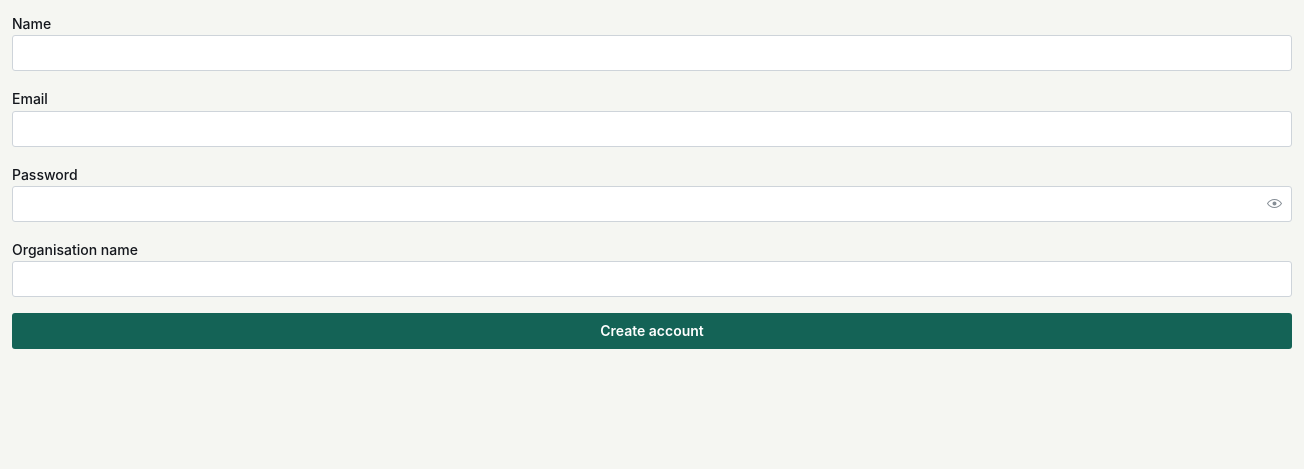
Test: SignUpForm › shows a generic banner when the server returns an unexpected 400
In the field labelled "Name": (652, 53) [12,35,1292,71], type "Priya Rao"
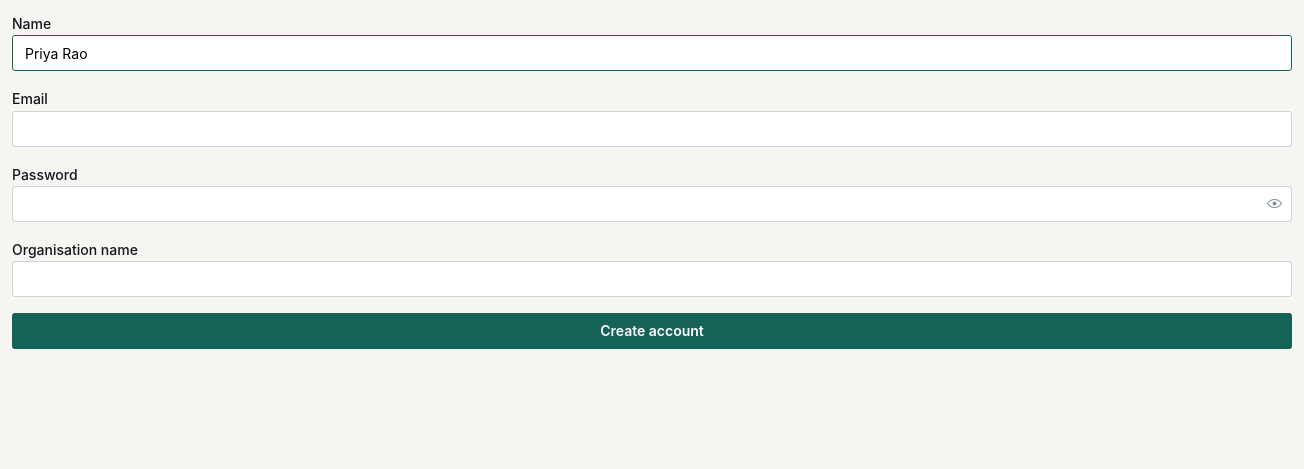
In the field labelled "Email": (652, 128) [12,110,1292,146], type "priya@acme.com"
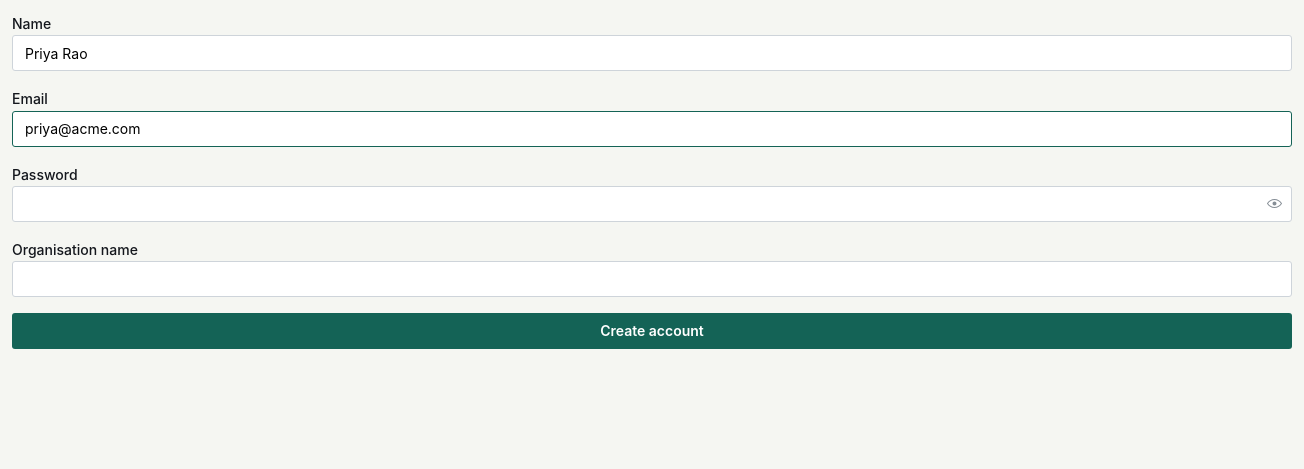
In the password field labelled "Password": (652, 204) [13,187,1291,221], type "s3cret-pass"
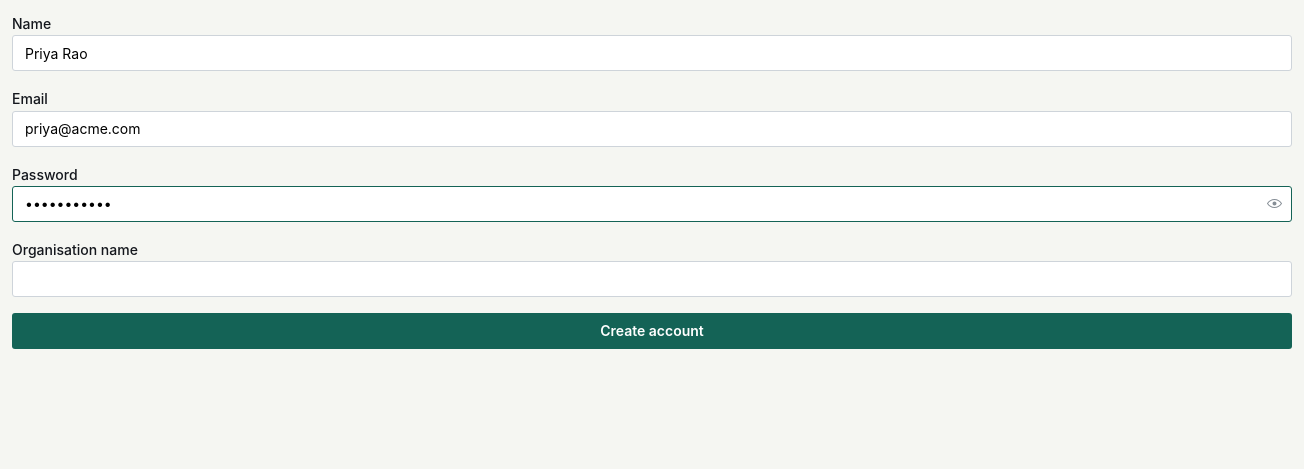
In the field labelled "Organisation name": (652, 279) [12,261,1292,297], type "ACME"
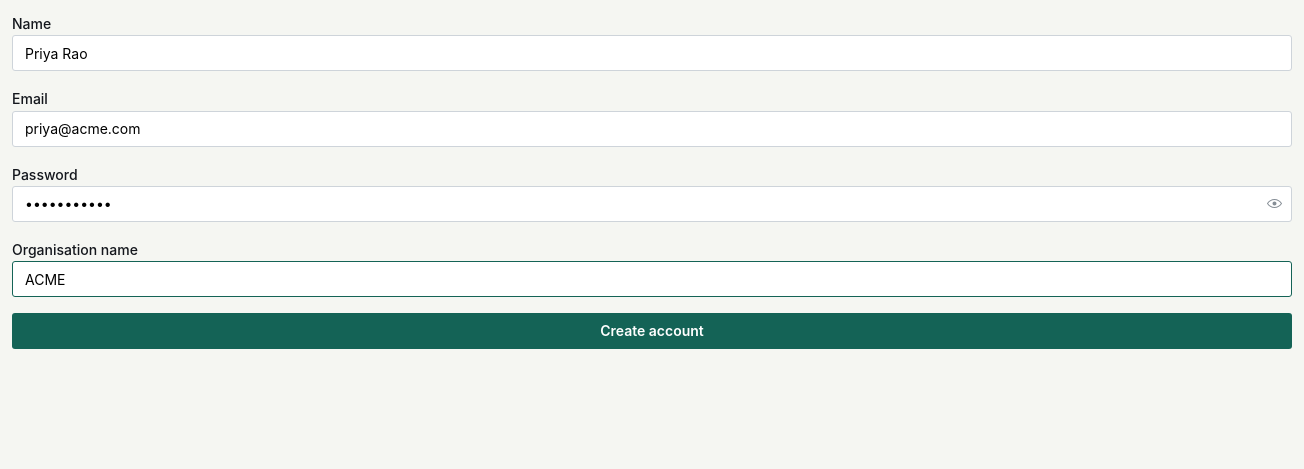
Click the button "Create account": click(652, 331) [12,313,1292,349]
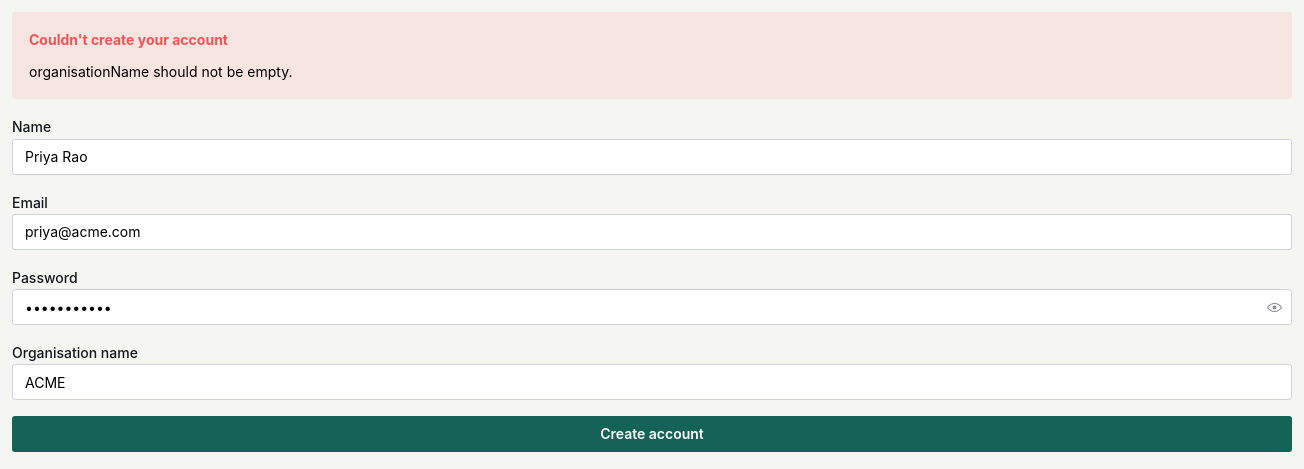
Now the message shows "organisationName should not be empty.", box [29,63,292,80]
